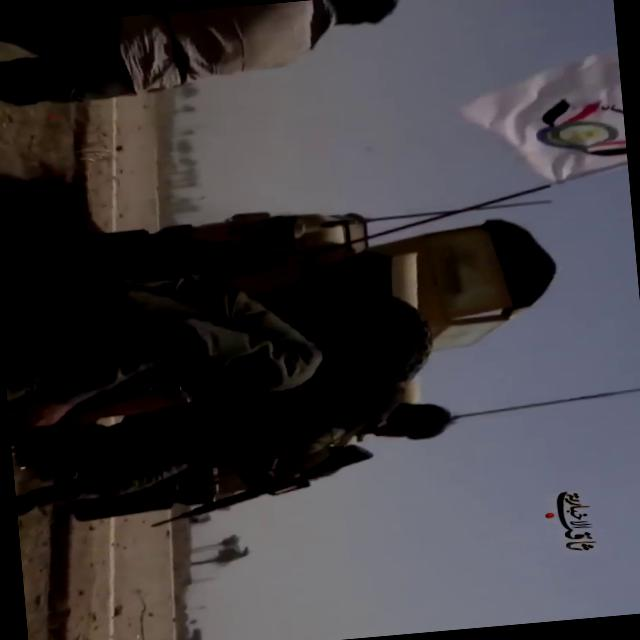long weapon: (134, 444, 385, 538)
